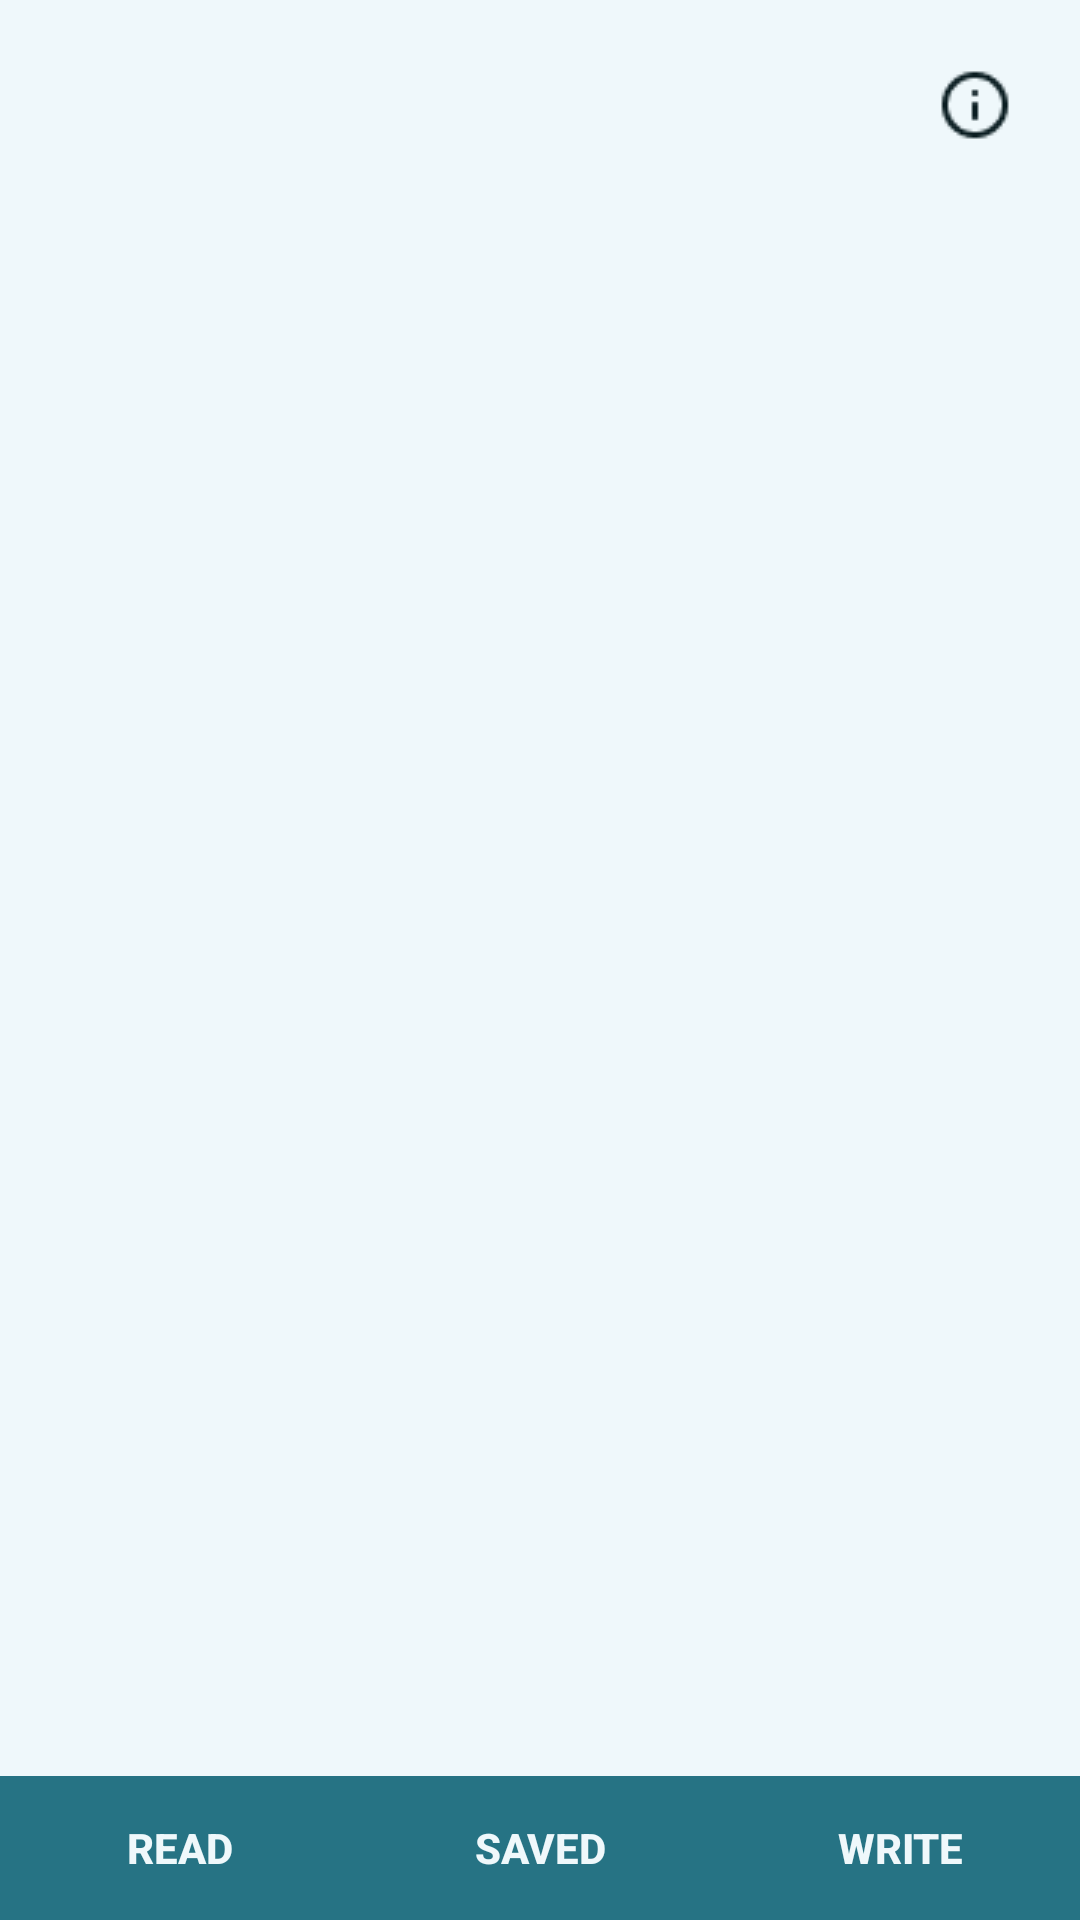

Where icons sit on this 1080*1920 app screen, as (x1, y1, x2, y2):
info: (941, 71, 1009, 139)
